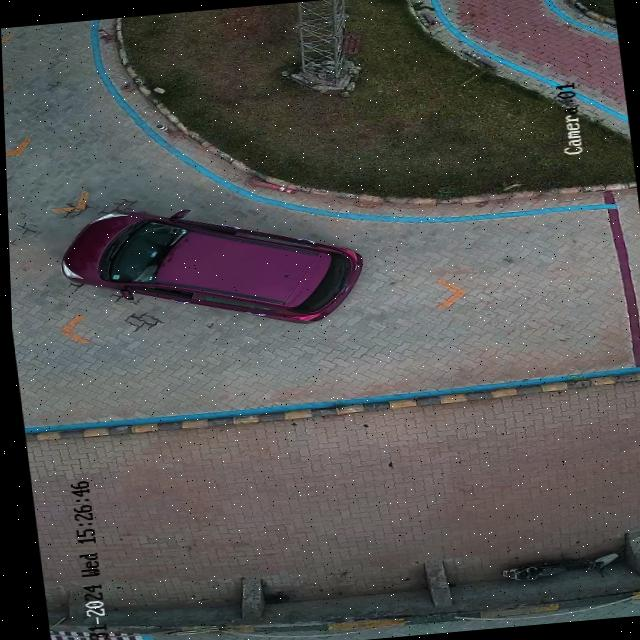car: (59, 208, 359, 322)
